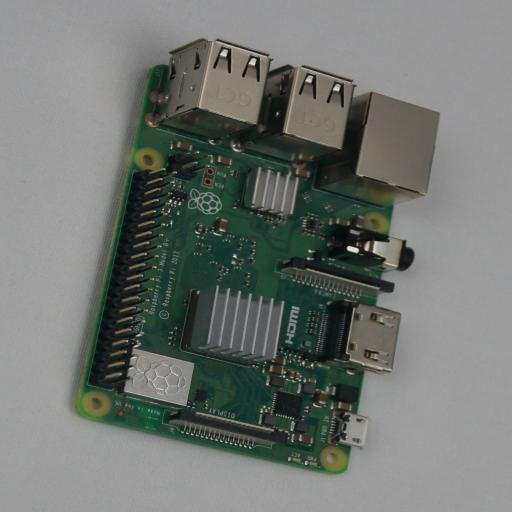Raspberry Pi 3 B-: (74, 38, 439, 474)
